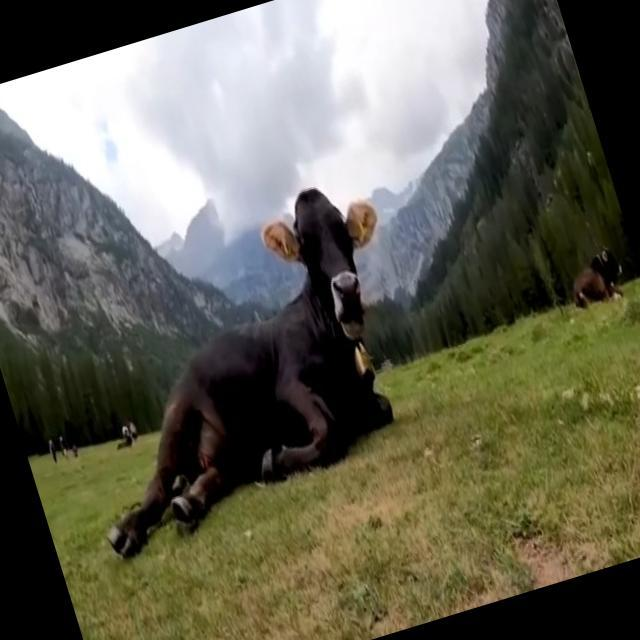COW: (109, 188, 391, 556)
